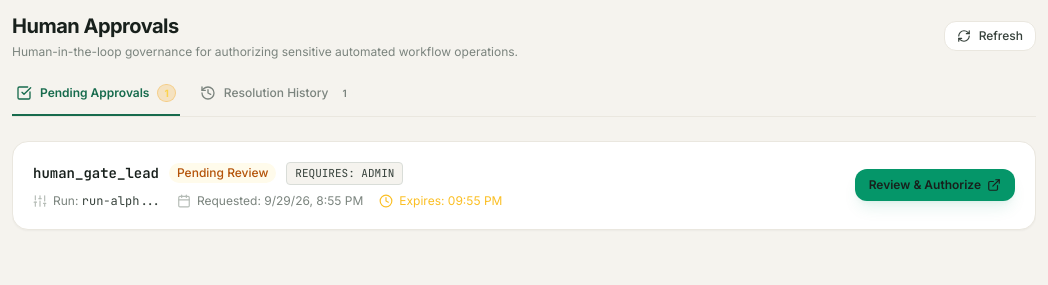
Test case: Approvals Module Tests › switches tabs to Resolution History
expect the text "human_gate_lead" is shown: met, box [33,163,159,183]
Click the button "Resolution History 1" at (276, 100), box [196,84,357,116]
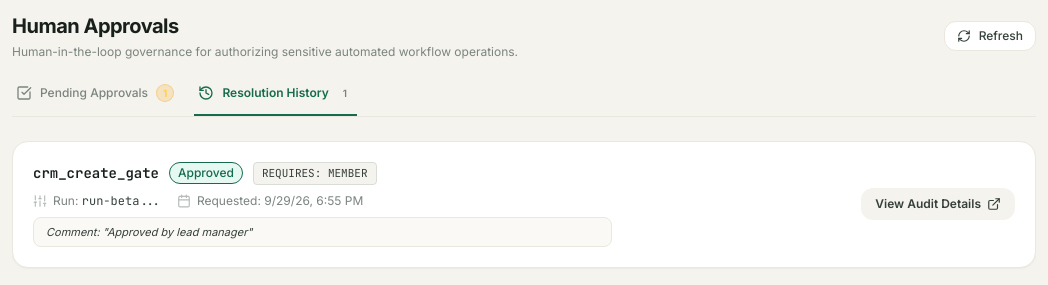
expect the text "crm_create_gate" is shown: met, box [33,163,159,183]
expect the text "Approved" is shown: met, box [169,162,243,184]
expect the text "Comment: \"Approved by lead manager\"" is shown: met, box [33,216,612,246]
